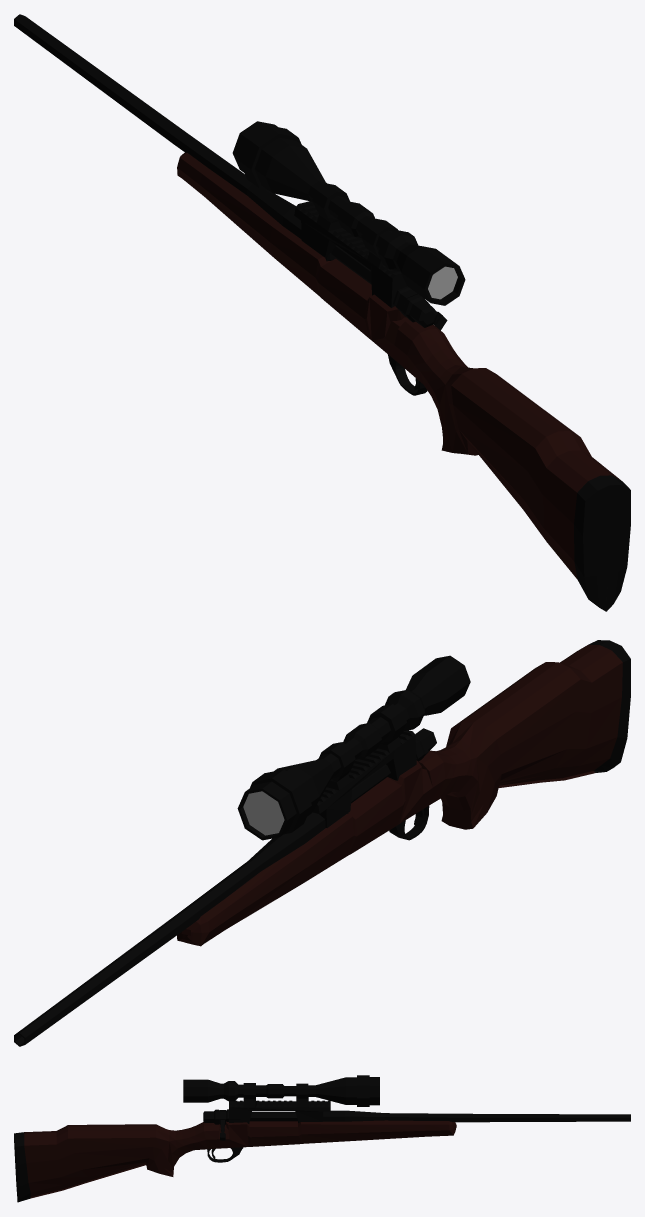
File: gun.obj
The picture shows the model from 3 angles, top to bottom: view 1: azimuth 30°, elevation 25°; view 2: azimuth 150°, elevation 25°; view 3: azimuth 270°, elevation 25°; orthographic projection. The views are drawn at different scales.
Visible parts, largest first — view 1: Cube, Cube.001, Cylinder; view 2: Cube, Cube.001, Cylinder; view 3: Cube, Cube.001, Cylinder.
Part boxes in pixels (x1,y1,x2,y2): Cube: (177,152,630,611); Cube.001: (232,121,465,307); Cylinder: (14,14,447,330); Cube: (177,640,630,946); Cube.001: (237,655,470,840); Cylinder: (14,728,436,1046); Cube: (14,1120,456,1202); Cube.001: (183,1075,379,1123); Cylinder: (203,1109,630,1140).
Size of the model in its own units: 0.5968 by 2.1 by 9.31.
